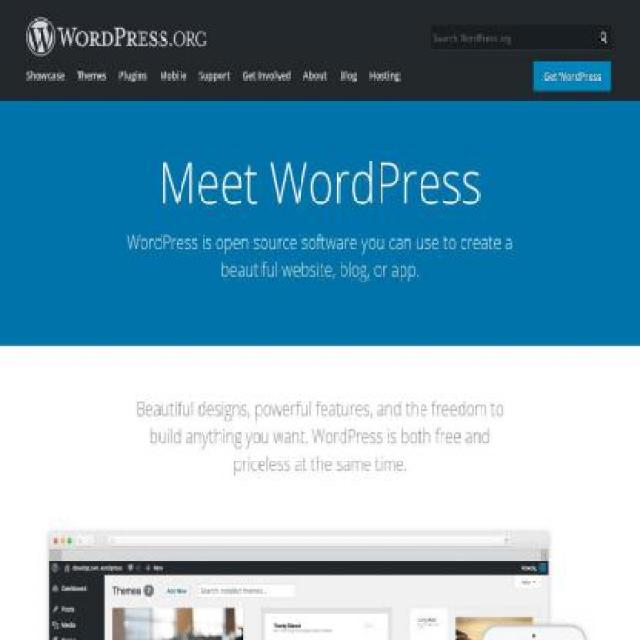button: (534, 62, 611, 100), (533, 60, 612, 92), (239, 61, 295, 99), (22, 61, 68, 99), (195, 61, 234, 99), (365, 61, 404, 99), (73, 61, 110, 99), (115, 61, 151, 99), (156, 61, 190, 99), (299, 61, 332, 99), (336, 61, 361, 99), (594, 25, 612, 50)
field: (431, 25, 595, 50)
